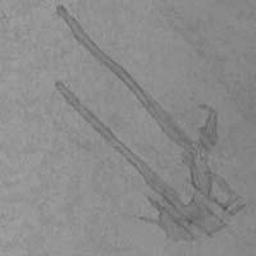Water spot: (54, 4, 246, 244)
